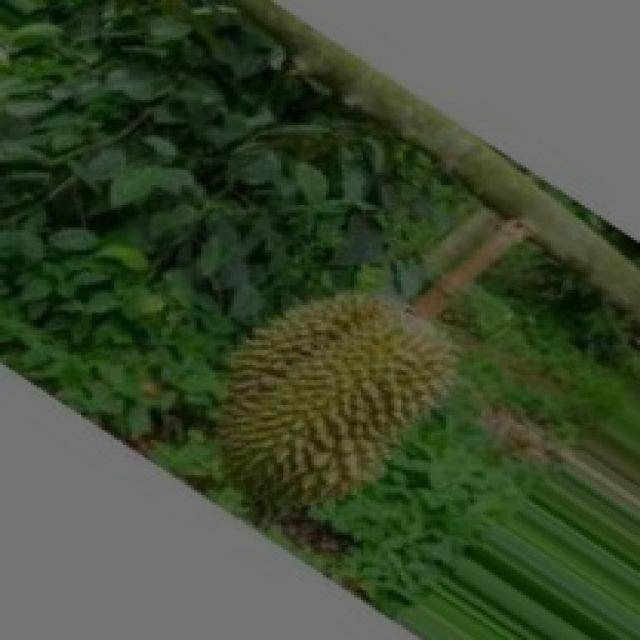fruit: (163, 247, 532, 595)
